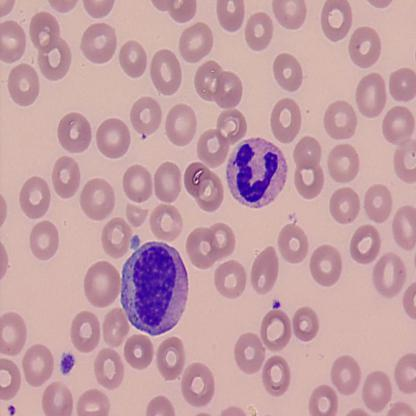Myelocyte: (120, 238, 194, 333), (226, 136, 289, 207)
